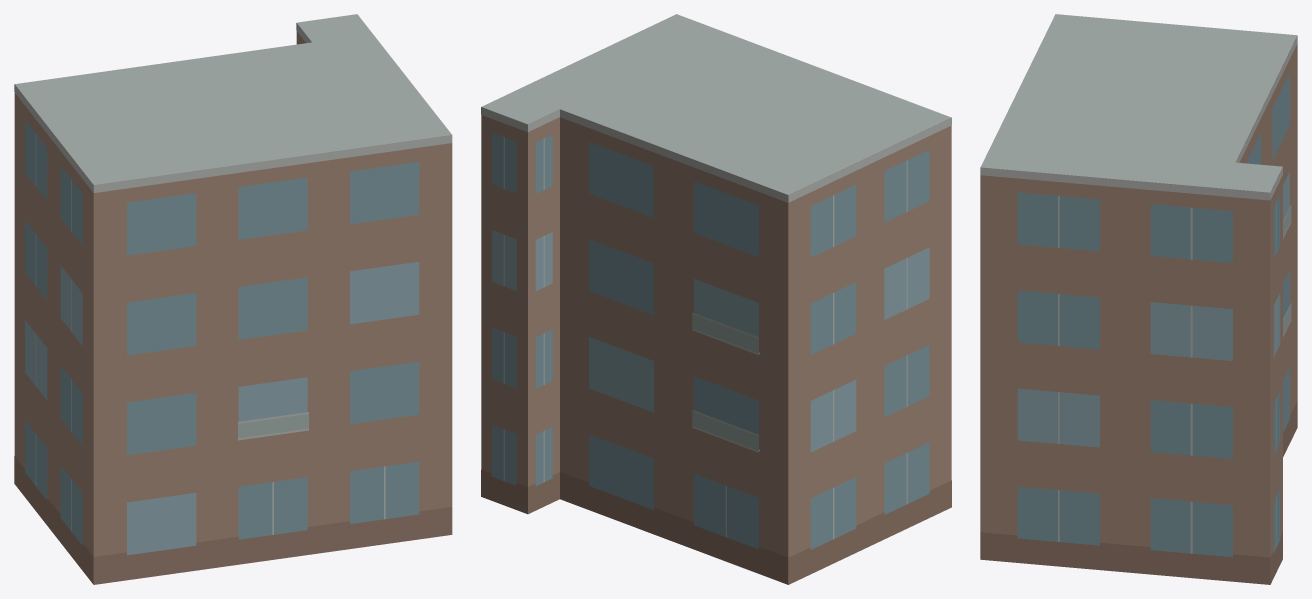
The model's file is residential-c053e53e-44d6-452d-bd31-3706bb99a699.glb.
3 views of the same model, side by side, from view 1: azimuth 30°, elevation 25°; view 2: azimuth 150°, elevation 25°; view 3: azimuth 270°, elevation 25° (orthographic). The views are drawn at different scales.
Parts seen in each view (by area): view 1: residential-c053e53e-44d6-452d-bd31-3706bb99a699.tmp; view 2: residential-c053e53e-44d6-452d-bd31-3706bb99a699.tmp; view 3: residential-c053e53e-44d6-452d-bd31-3706bb99a699.tmp.
Boxes of the visible parts, left/top/right/bottom form: residential-c053e53e-44d6-452d-bd31-3706bb99a699.tmp: left=14, top=14, right=452, bottom=584; residential-c053e53e-44d6-452d-bd31-3706bb99a699.tmp: left=481, top=14, right=951, bottom=584; residential-c053e53e-44d6-452d-bd31-3706bb99a699.tmp: left=980, top=14, right=1297, bottom=584.
Bounding box in the file's own units: 11.93 × 12.2 × 8.95.
